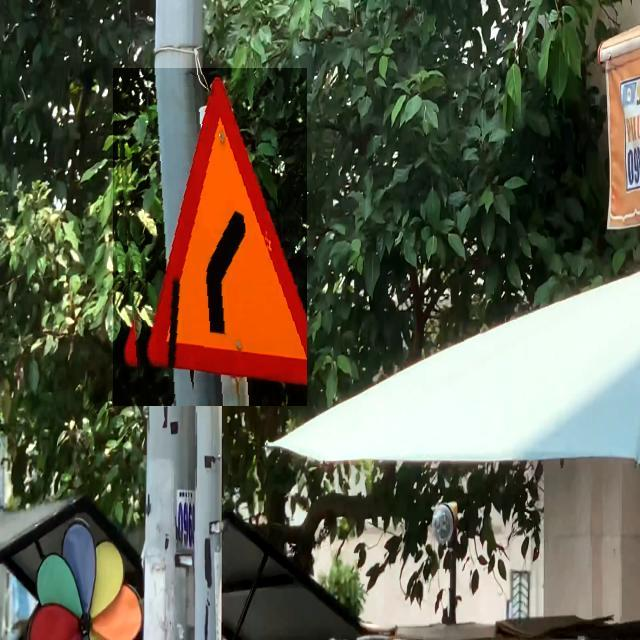W-201b: (113, 68, 307, 406)
